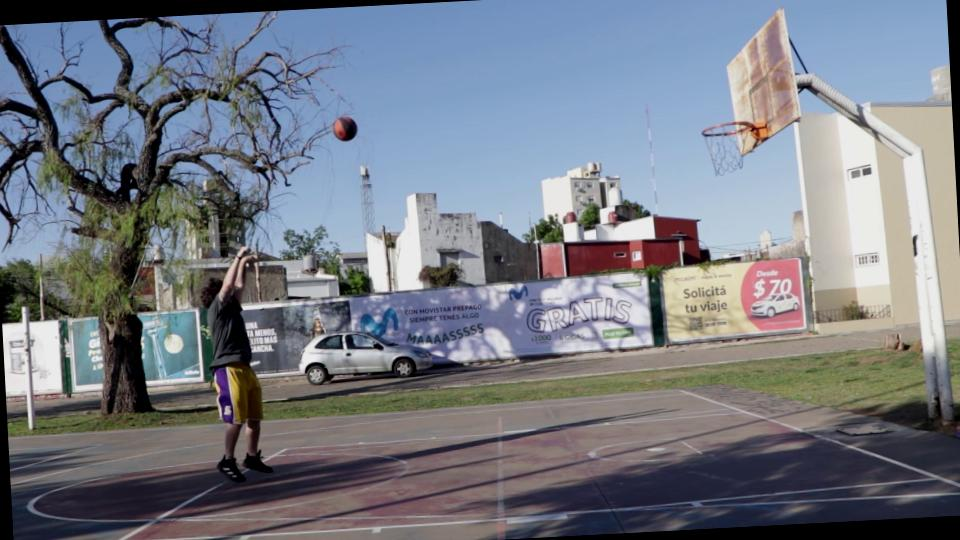hoop: (699, 116, 776, 148)
